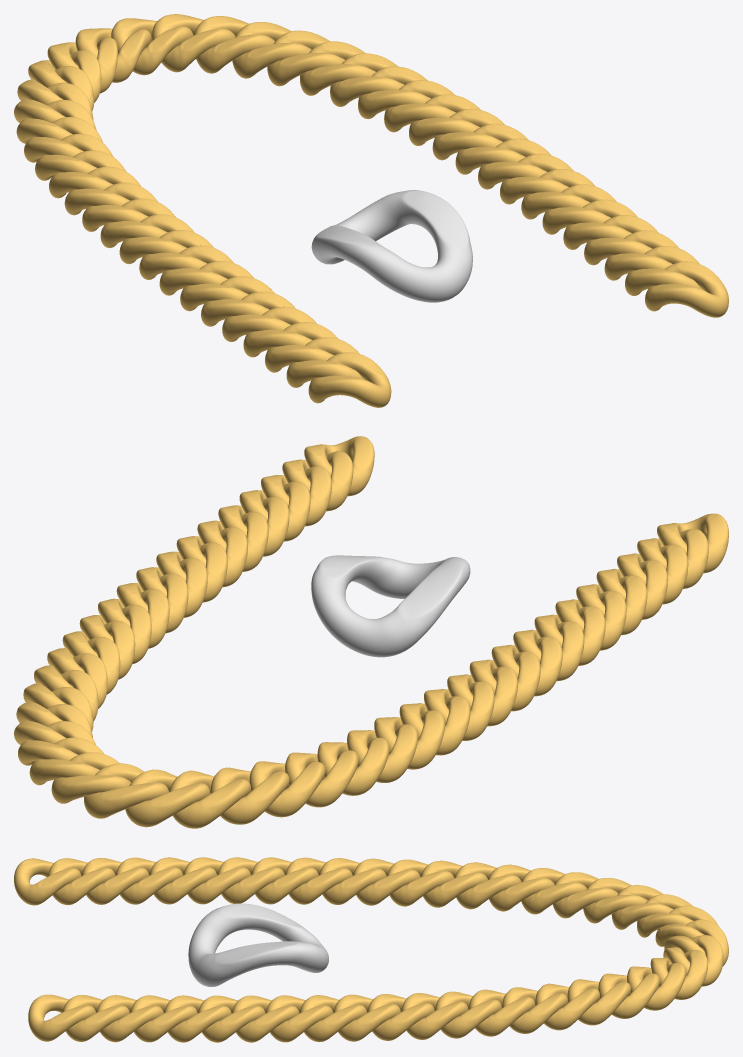
File: Cuban Link Chain.fbx
The picture shows the model from 3 angles, top to bottom: view 1: azimuth 30°, elevation 25°; view 2: azimuth 150°, elevation 25°; view 3: azimuth 270°, elevation 25°; orthographic projection. The views are drawn at different scales.
Parts seen in each view (by area): view 1: chain, Chain Single; view 2: chain, Chain Single; view 3: chain, Chain Single.
Boxes of the visible parts, bbox=[...] form: chain: bbox=[14, 14, 728, 407]; Chain Single: bbox=[311, 190, 472, 302]; chain: bbox=[14, 436, 728, 828]; Chain Single: bbox=[311, 555, 470, 657]; chain: bbox=[14, 857, 728, 1042]; Chain Single: bbox=[188, 903, 328, 986].
Bounding box in the file's own units: 698 × 97.78 × 1276.
